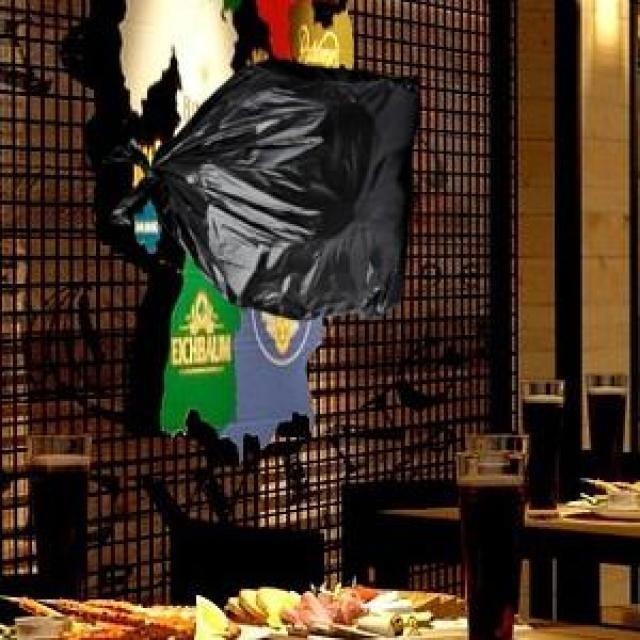Vinyl: (111, 62, 416, 318), (122, 145, 145, 163)
